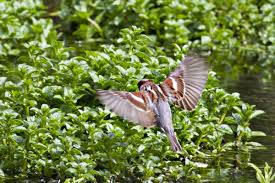hsparrow: (95, 47, 212, 154)
